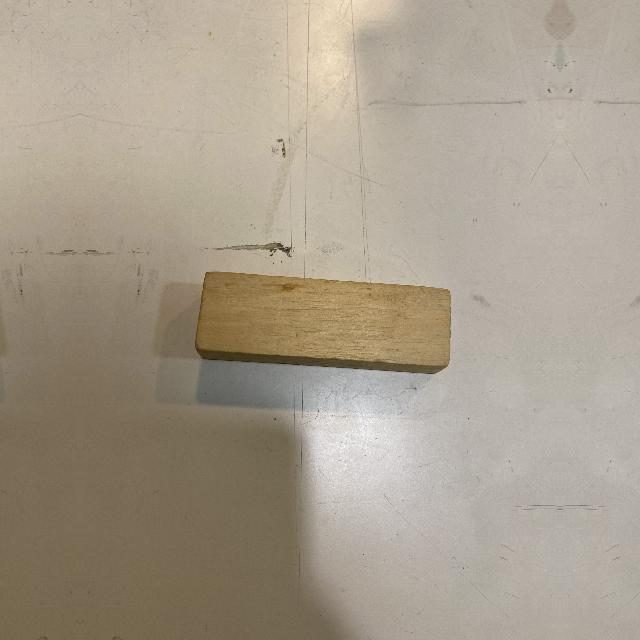jenga: (198, 273, 451, 365)
